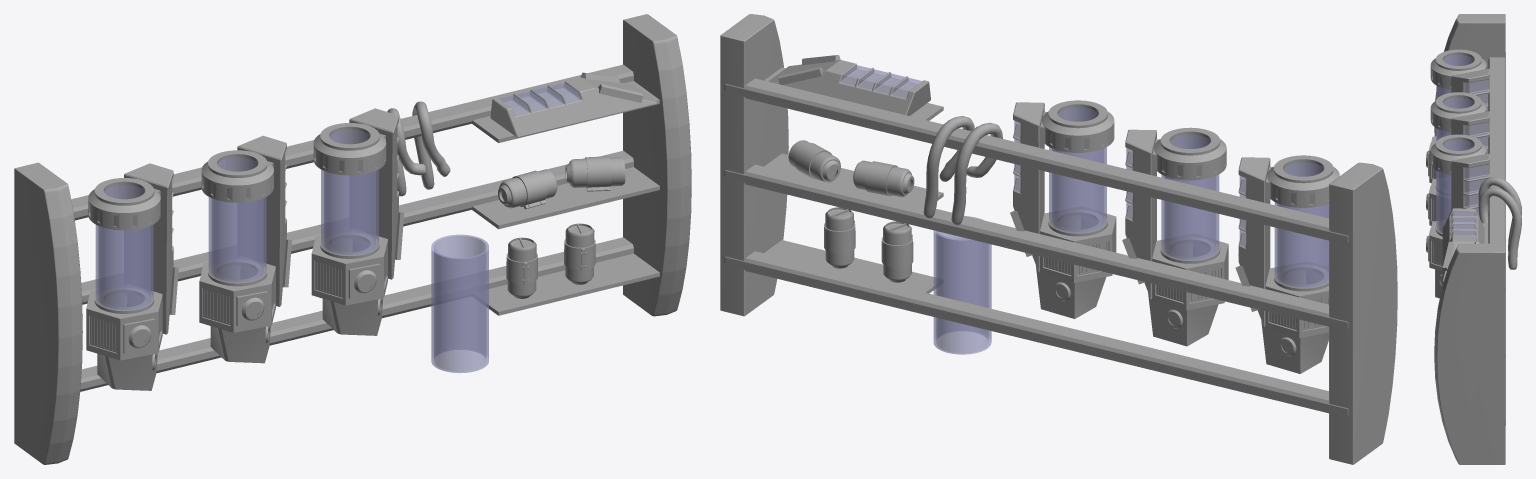
File: equipmentShelf.fbx
3 renders of one model, left to right at view 1: azimuth 30°, elevation 25°; view 2: azimuth 150°, elevation 25°; view 3: azimuth 270°, elevation 25°, orthographic. The views are drawn at different scales.
Parts seen in each view (by area): view 1: polySurface202; view 2: polySurface202; view 3: polySurface202.
Part boxes in pixels (<box>): polySurface202: <box>14,14,691,464</box>; polySurface202: <box>720,14,1397,464</box>; polySurface202: <box>1426,14,1521,464</box>.
Size of the model in its own units: 390 by 162 by 66.29.
